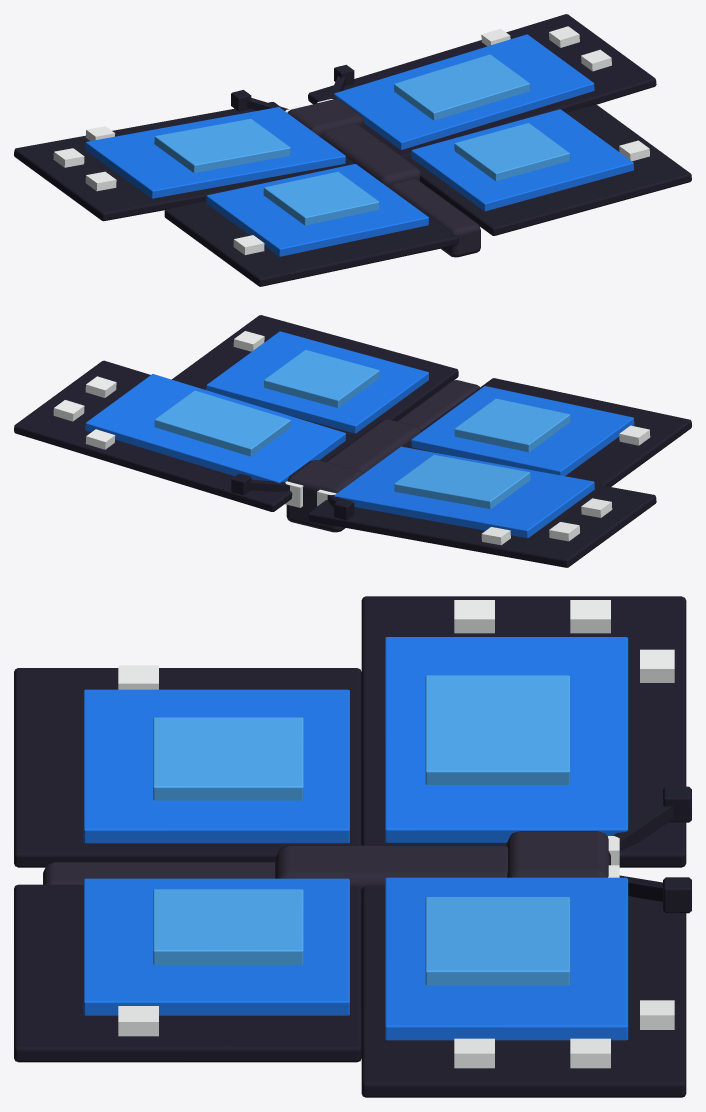
The model's file is butterfly-poly-by-google_814CINpG3H1-blocky.glb.
3 renders of one model, top to bottom at view 1: azimuth 30°, elevation 25°; view 2: azimuth 150°, elevation 25°; view 3: azimuth 270°, elevation 25°, orthographic. The views are drawn at different scales.
Visible parts, largest first — view 1: Butterfly.1; view 2: Butterfly.1; view 3: Butterfly.1.
Boxes of the visible parts, x1,y1,x2,y2 form: Butterfly.1: [14, 14, 691, 286]; Butterfly.1: [14, 315, 691, 567]; Butterfly.1: [14, 596, 691, 1097].
Size of the model in its own units: 210 by 22.22 by 123.
1 material, 1 textured.
